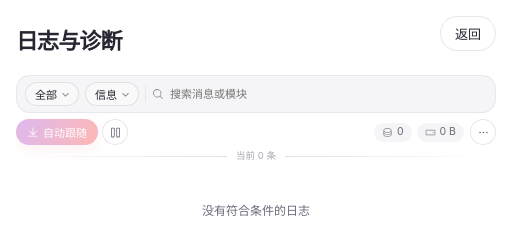
Test case: LogPage toolbar and dialogs › buffers new logs while paused and merges them on resume
Expected: the text "没有符合条件的日志" is shown, [202,203,310,218]
Click the button named "暂停刷新". click: (115, 132)
box: [102,119,128,145]
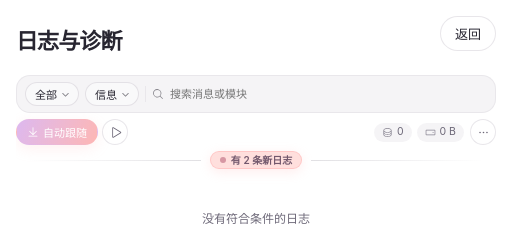
Expected: the text "paused-1" is not shown
Note: 恢复：缓冲的日志合并到列表
Click the button named "继续刷新". click: (115, 132)
box: [102,119,128,145]
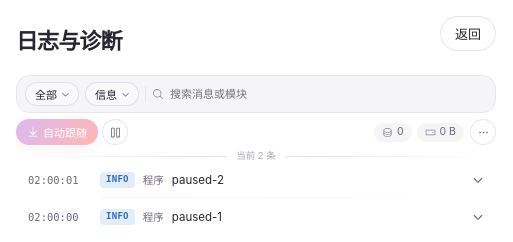
Now the text "paused-1" is shown, box [172,210,222,224]
Now the text "paused-2" is shown, box [172,173,224,187]
